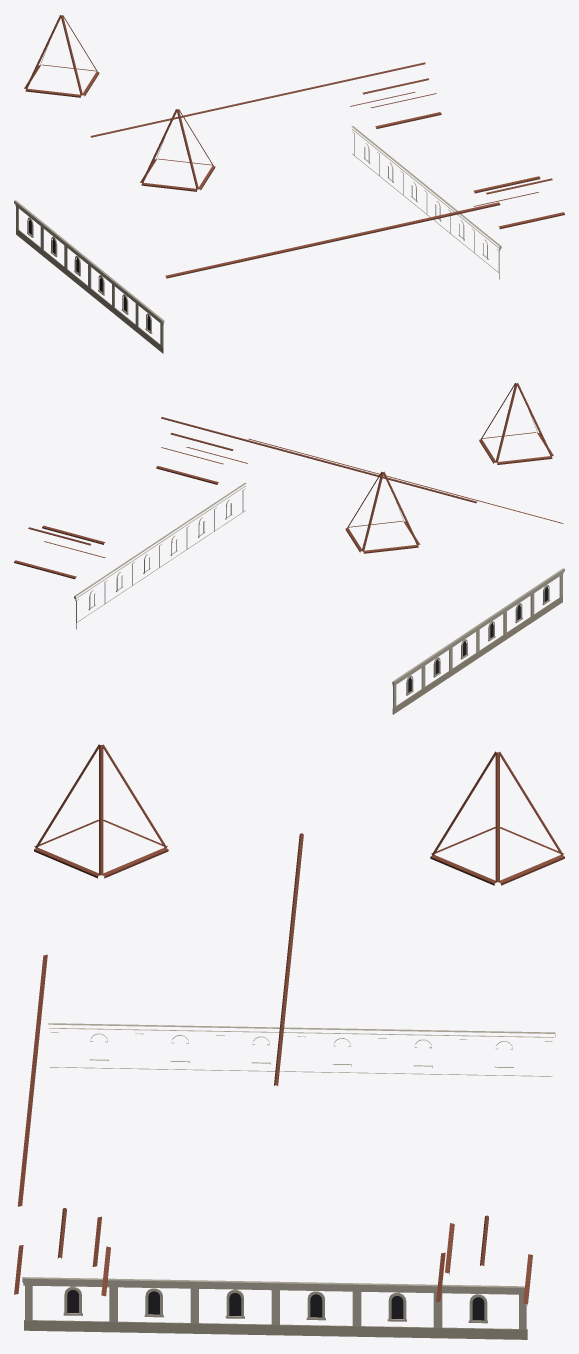
3 views of the same model, one above another, from view 1: azimuth 30°, elevation 25°; view 2: azimuth 150°, elevation 25°; view 3: azimuth 270°, elevation 25° (orthographic). The views are drawn at different scales.
Visible parts, largest first — view 1: detail; view 2: detail; view 3: detail.
Part boxes in pixels (x1,y1,x2,y2): detail: [14, 15, 564, 353]; detail: [14, 383, 564, 714]; detail: [14, 744, 564, 1339].
Size of the model in its own units: 52.43 by 27.65 by 38.68.
